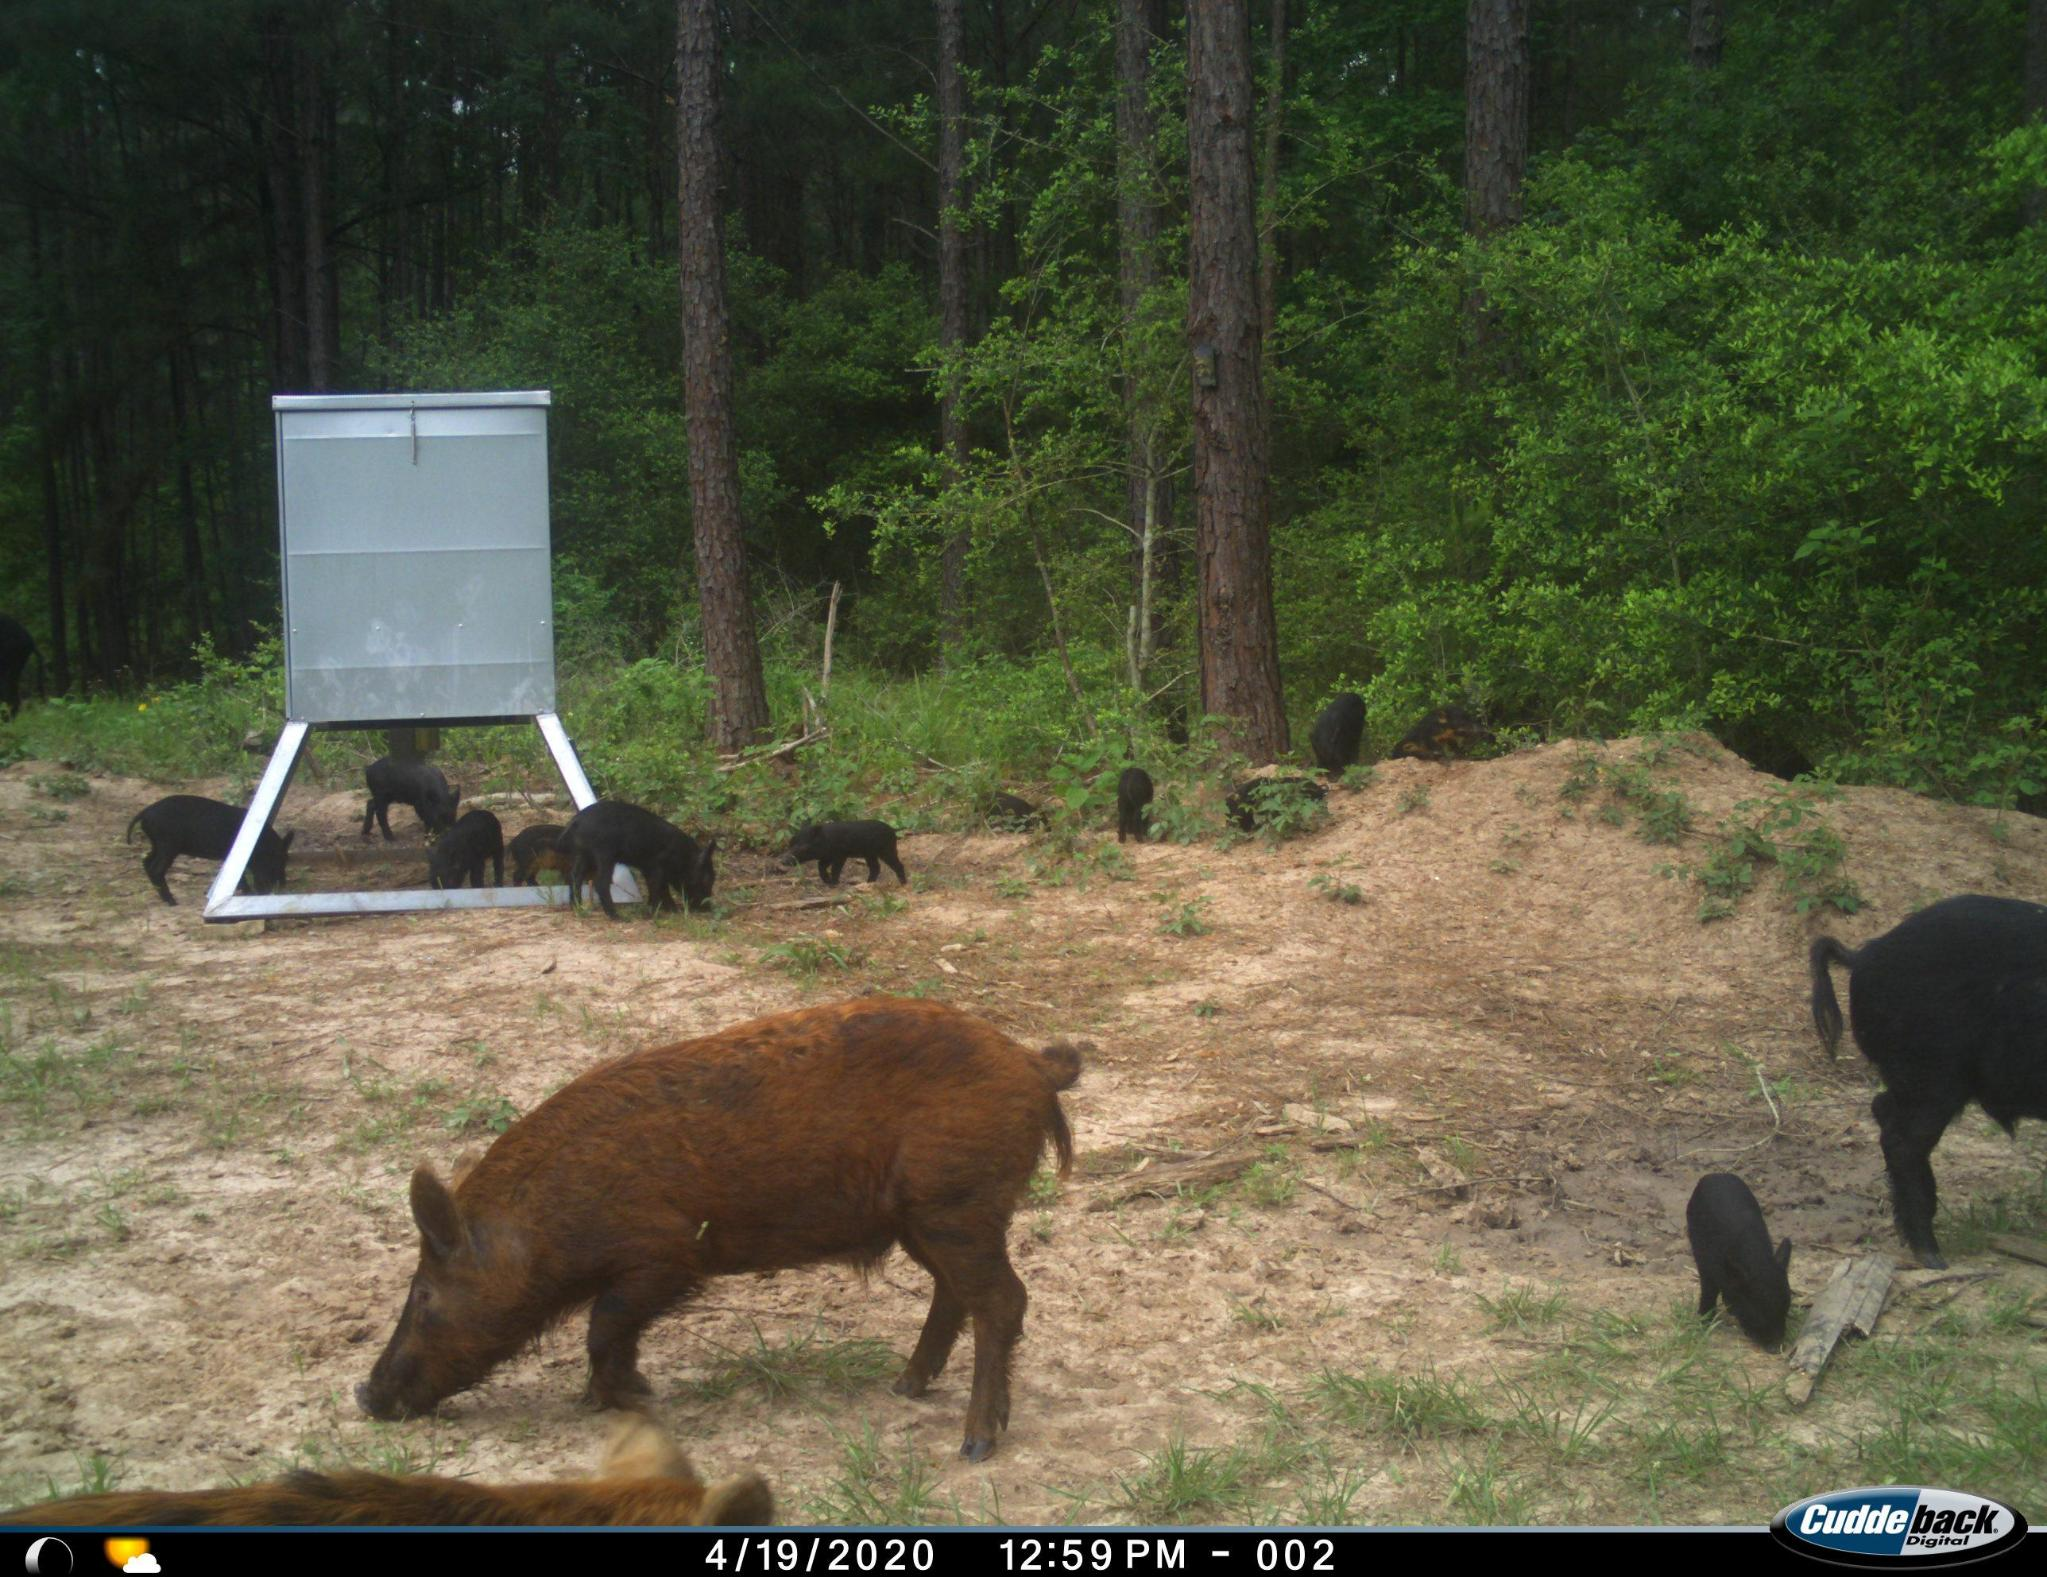Hog: (336, 972, 1096, 1488), (1799, 883, 2047, 1289), (3, 1408, 782, 1516), (1678, 1166, 1812, 1358), (556, 792, 740, 929), (119, 790, 301, 909), (351, 744, 474, 843), (787, 808, 918, 901), (419, 795, 507, 888)
